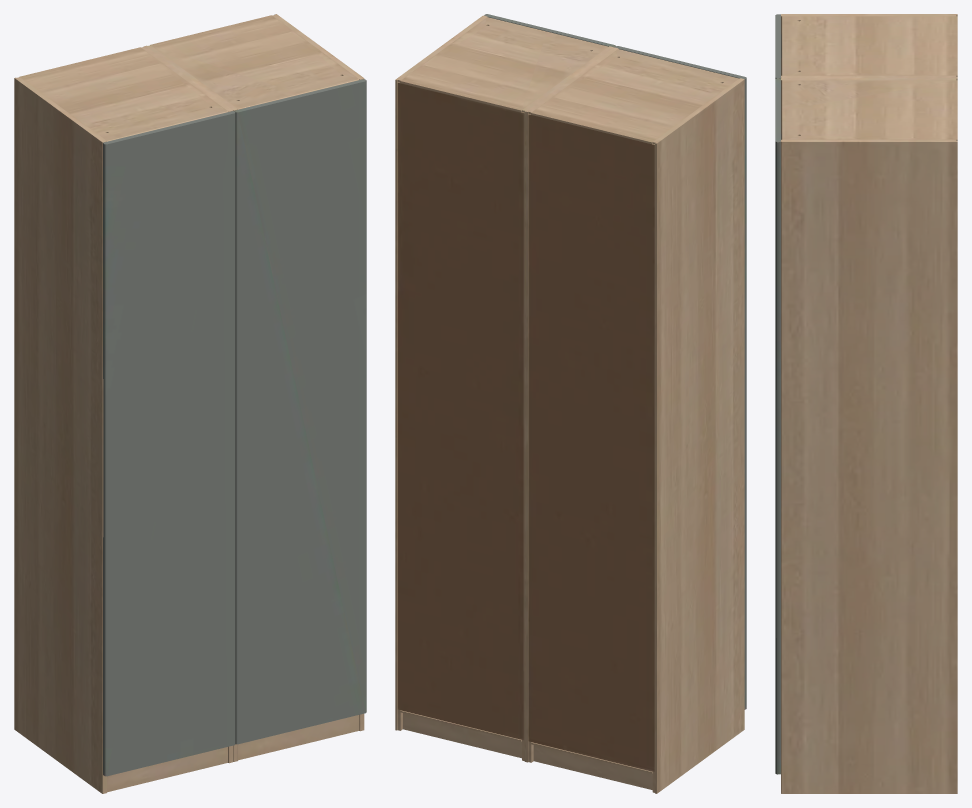
Rendered from pax_reinsvoll_kombinacja_szafy_09329352.glb.
3 views of the same model, side by side, from view 1: azimuth 30°, elevation 25°; view 2: azimuth 150°, elevation 25°; view 3: azimuth 270°, elevation 25° (orthographic).
Visible parts, largest first — view 1: pax_reinsvoll_kombinacja_szafy_09329352; view 2: pax_reinsvoll_kombinacja_szafy_09329352; view 3: pax_reinsvoll_kombinacja_szafy_09329352.
Part boxes in pixels (x1,y1,x2,y2): pax_reinsvoll_kombinacja_szafy_09329352: [14, 14, 366, 793]; pax_reinsvoll_kombinacja_szafy_09329352: [395, 14, 746, 793]; pax_reinsvoll_kombinacja_szafy_09329352: [775, 14, 957, 793].
Size of the model in its own units: 0.9955 by 2.36 by 0.5981.
Materials: 1 (1 with a texture image).
